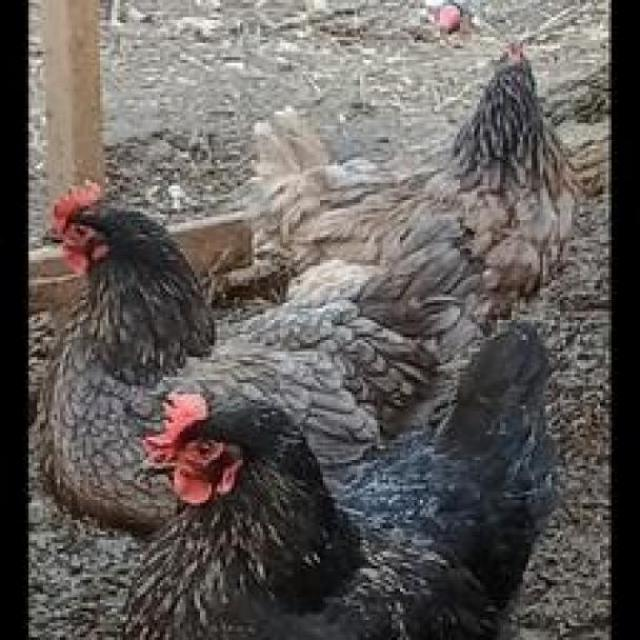Chicken: (139, 380, 640, 640), (244, 43, 608, 351), (36, 169, 218, 388)
